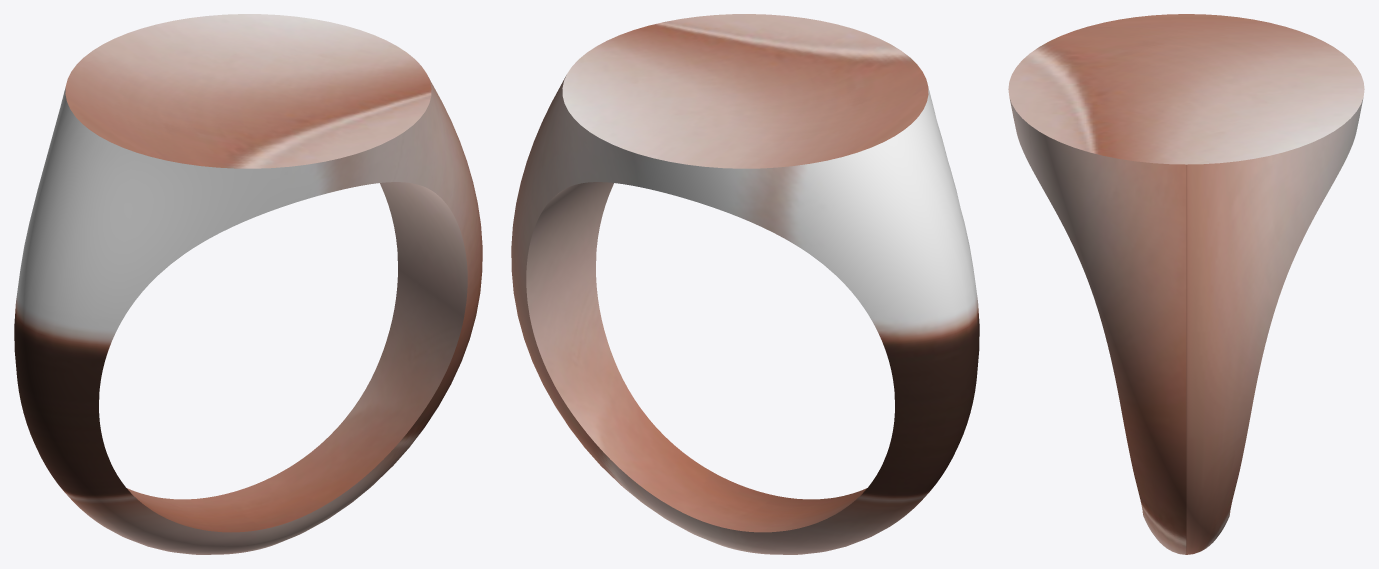
Rendered from Anillo formas circulo.fbx.
3 renders of one model, left to right at view 1: azimuth 30°, elevation 25°; view 2: azimuth 150°, elevation 25°; view 3: azimuth 270°, elevation 25°, orthographic. The views are drawn at different scales.
Visible parts, largest first — view 1: Objeto_56; view 2: Objeto_56; view 3: Objeto_56.
Part boxes in pixels (x1,y1,x2,y2): Objeto_56: [14, 14, 482, 554]; Objeto_56: [511, 14, 979, 554]; Objeto_56: [1008, 14, 1364, 554].
Bounding box in the file's own units: 21.37 × 15 × 20.55.
1 material, 1 textured.
